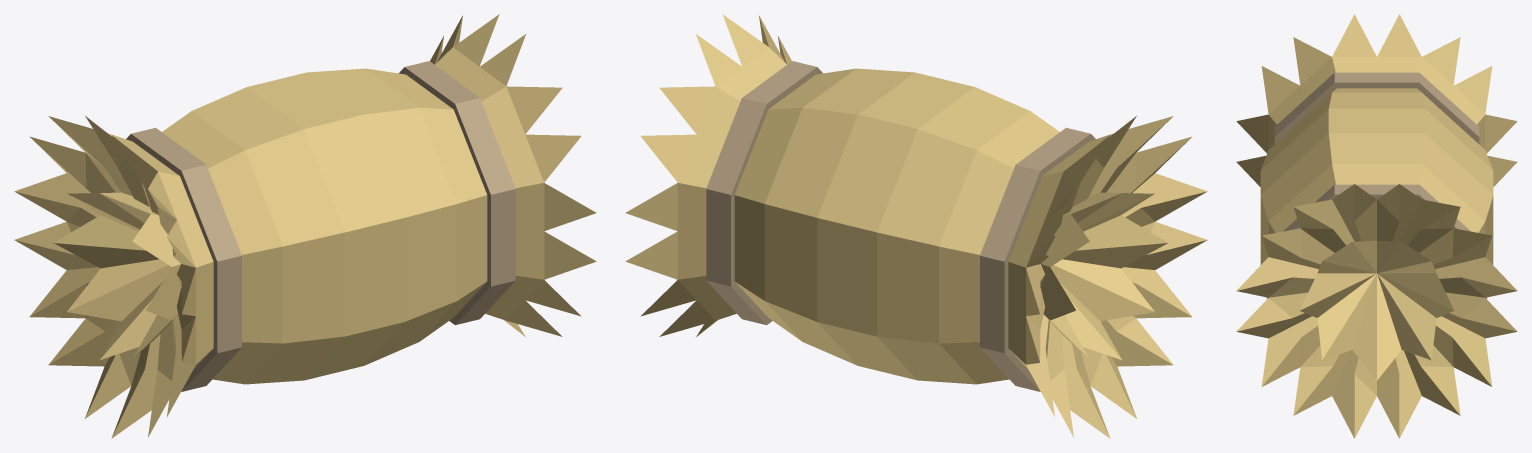
The model's file is Prop_Hay_1.glb.
The picture shows the model from 3 angles, left to right: view 1: azimuth 30°, elevation 25°; view 2: azimuth 150°, elevation 25°; view 3: azimuth 270°, elevation 25°; orthographic projection. The views are drawn at different scales.
Parts seen in each view (by area): view 1: Prop_Hay_1; view 2: Prop_Hay_1; view 3: Prop_Hay_1.
Part boxes in pixels (<box>): Prop_Hay_1: <box>14,14,596,438</box>; Prop_Hay_1: <box>625,14,1207,438</box>; Prop_Hay_1: <box>1236,14,1517,438</box>.
Size of the model in its own units: 0.8342 by 0.5842 by 0.5842.
